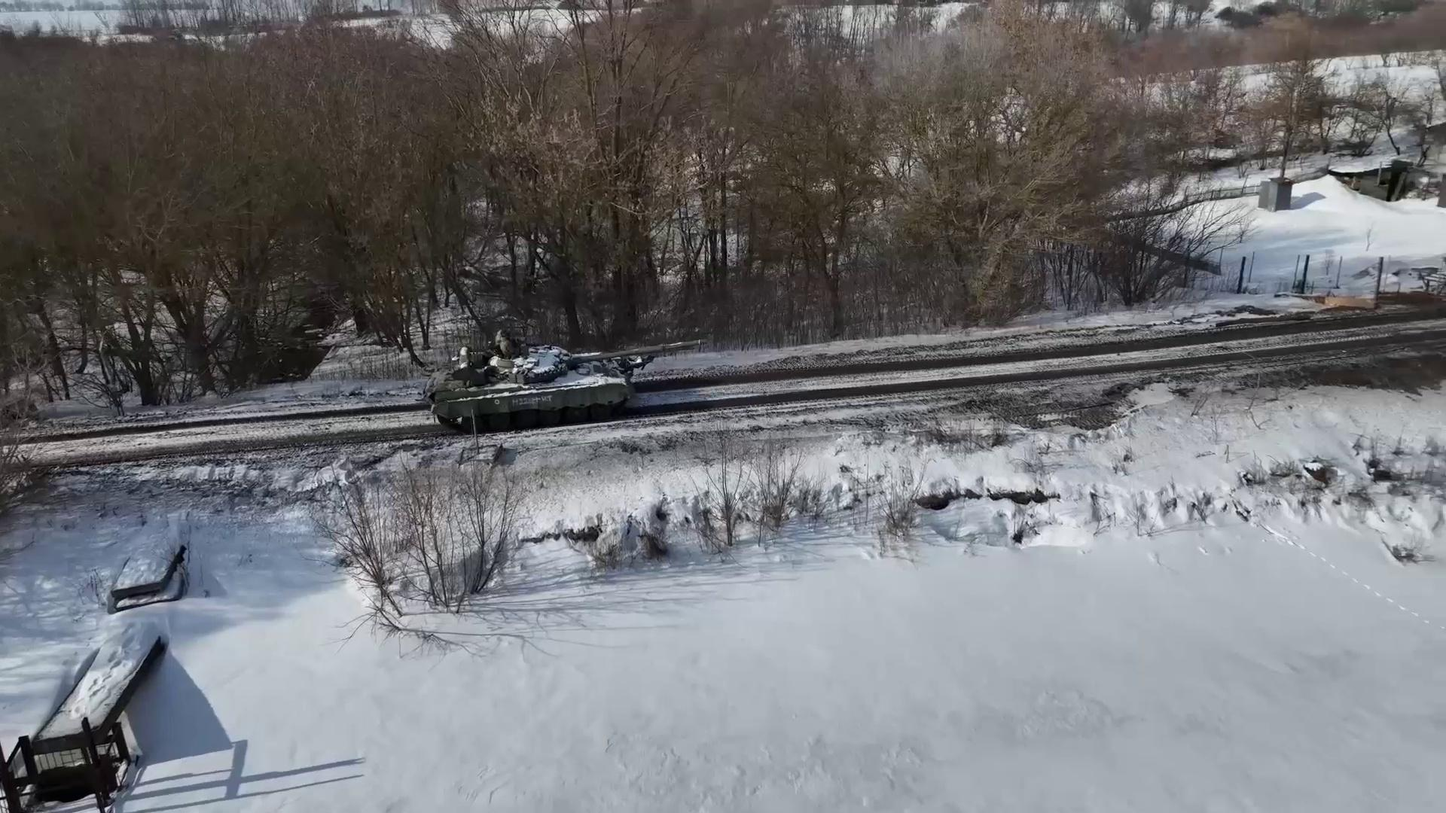tank: (413, 327, 708, 435)
